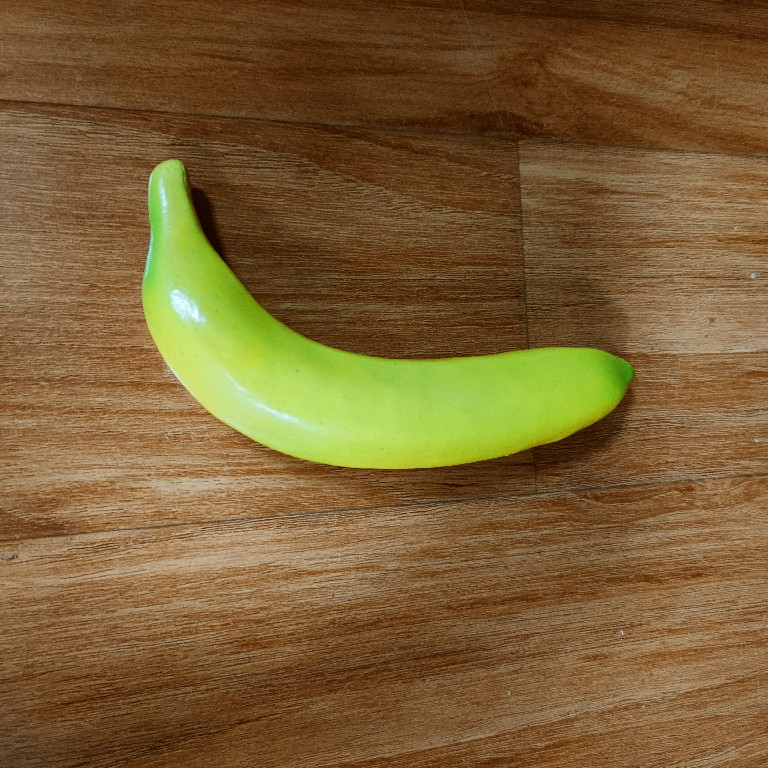fruit_banana: (135, 156, 640, 472)
